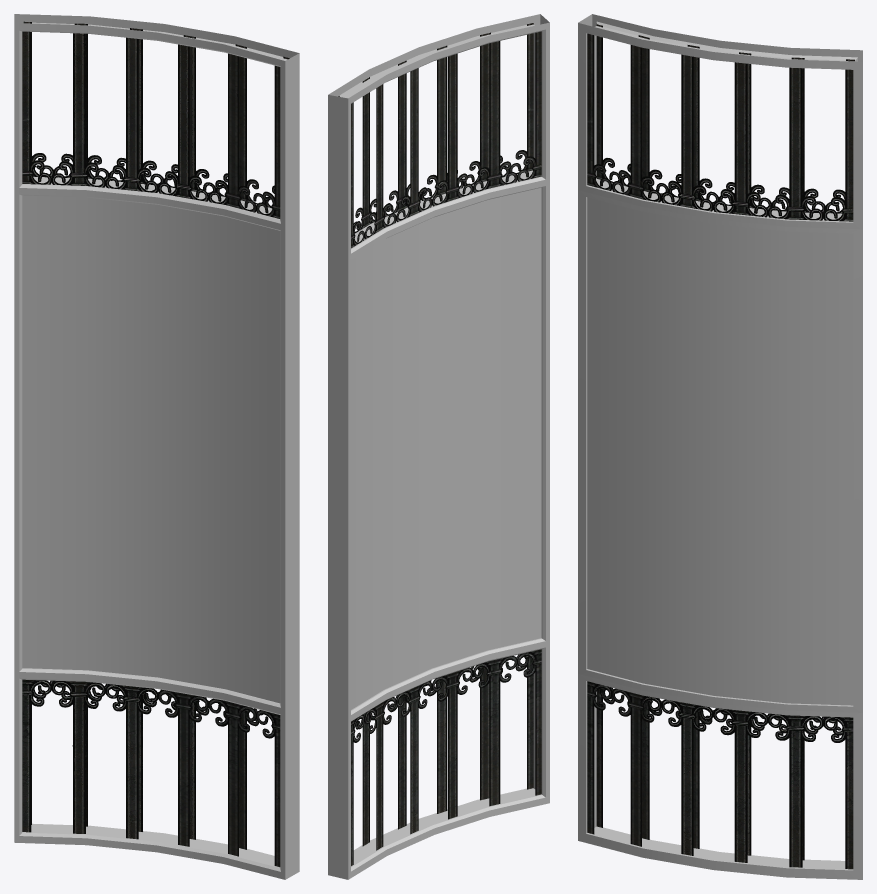
The model's file is elevator_door_left.dae.
The picture shows the model from 3 angles, left to right: view 1: azimuth 90°, elevation 25°; view 2: azimuth 150°, elevation 25°; view 3: azimuth 270°, elevation 25°; orthographic projection. The views are drawn at different scales.
Visible parts, largest first — view 1: elevator_door_left_transparent, elevator_door_left_frame, elevator_door_left_bars; view 2: elevator_door_left_transparent, elevator_door_left_frame, elevator_door_left_bars; view 3: elevator_door_left_transparent, elevator_door_left_bars, elevator_door_left_frame.
Boxes of the visible parts, box(x1,y1,x2,y2) form: elevator_door_left_transparent: box(22, 195, 280, 703); elevator_door_left_frame: box(14, 14, 299, 879); elevator_door_left_bars: box(22, 21, 289, 867); elevator_door_left_transparent: box(351, 187, 541, 709); elevator_door_left_frame: box(328, 14, 549, 879); elevator_door_left_bars: box(338, 23, 541, 865); elevator_door_left_transparent: box(587, 197, 853, 705); elevator_door_left_bars: box(587, 24, 854, 869); elevator_door_left_frame: box(578, 14, 862, 879).
Bounding box in the file's own units: 38.82 × 313 × 98.49.
